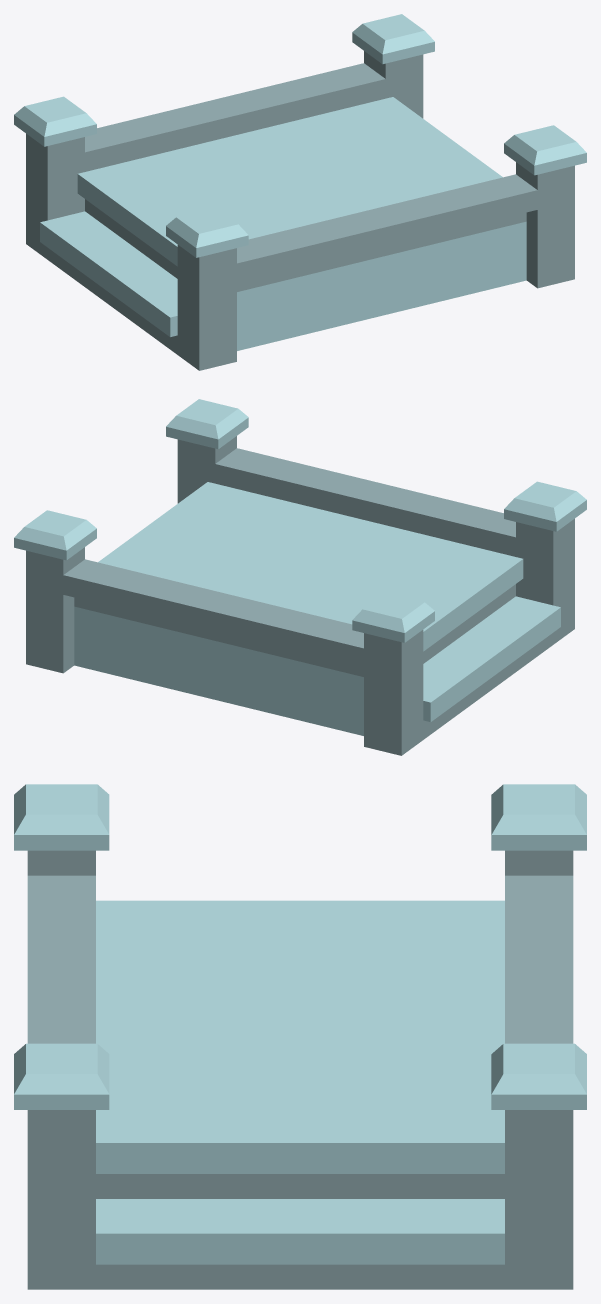
The picture shows the model from 3 angles, top to bottom: view 1: azimuth 30°, elevation 25°; view 2: azimuth 150°, elevation 25°; view 3: azimuth 270°, elevation 25°; orthographic projection. The views are drawn at different scales.
Visible parts, largest first — view 1: bridge_stoneNarrow; view 2: bridge_stoneNarrow; view 3: bridge_stoneNarrow.
Boxes of the visible parts, <box> form: bridge_stoneNarrow: <box>14,14,586,370</box>; bridge_stoneNarrow: <box>14,399,586,755</box>; bridge_stoneNarrow: <box>14,784,586,1289</box>.
Size of the model in its own units: 1.04 by 0.35 by 0.84.
